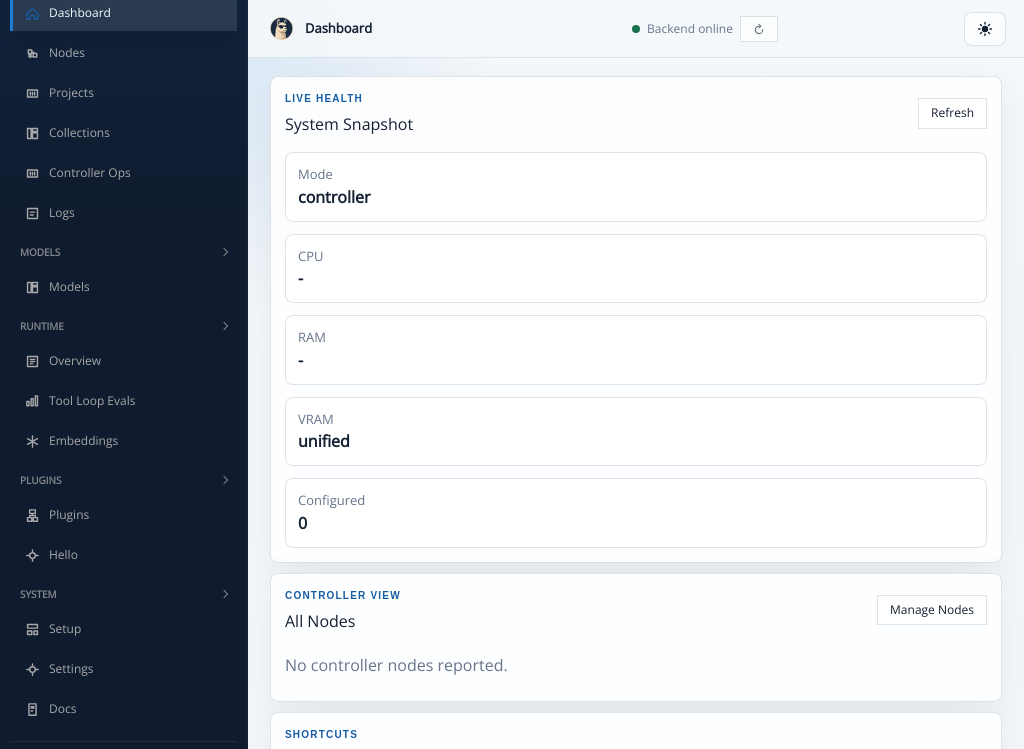
Test: renders enabled plugin navigation and a generic hosted route
This screenshot has width=1024, height=749.
(page scrolled)
Click the link "Hello" at (51, 555), box [24,546,78,564]
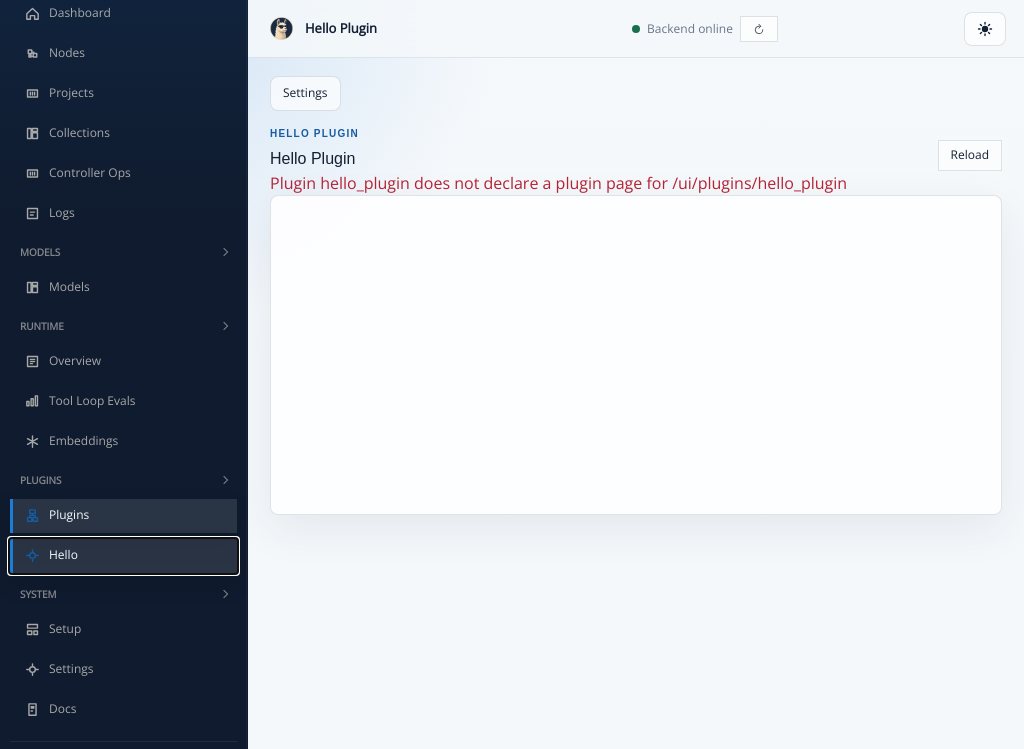
Check: the text "does not declare a plugin page" is shown, box [270,172,847,194]
Check: the 1st link "Settings" is shown, box [270,76,340,111]
